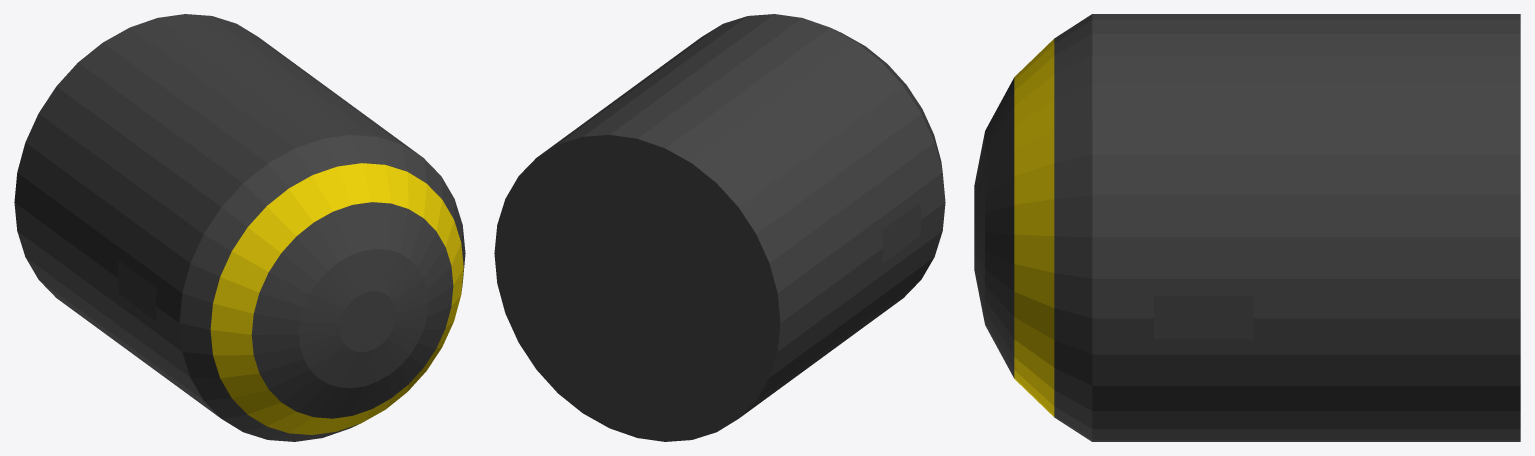
Rendered from hydro1_heliceso.fbx.
The picture shows the model from 3 angles, left to right: view 1: azimuth 30°, elevation 25°; view 2: azimuth 150°, elevation 25°; view 3: azimuth 270°, elevation 25°; orthographic projection. The views are drawn at different scales.
Parts seen in each view (by area): view 1: Helice so; view 2: Helice so; view 3: Helice so.
Part boxes in pixels (bbox=[...]): Helice so: bbox=[14, 14, 465, 441]; Helice so: bbox=[494, 14, 945, 441]; Helice so: bbox=[974, 14, 1520, 441].
Bounding box in the file's own units: 69.37 × 69.37 × 88.46.
